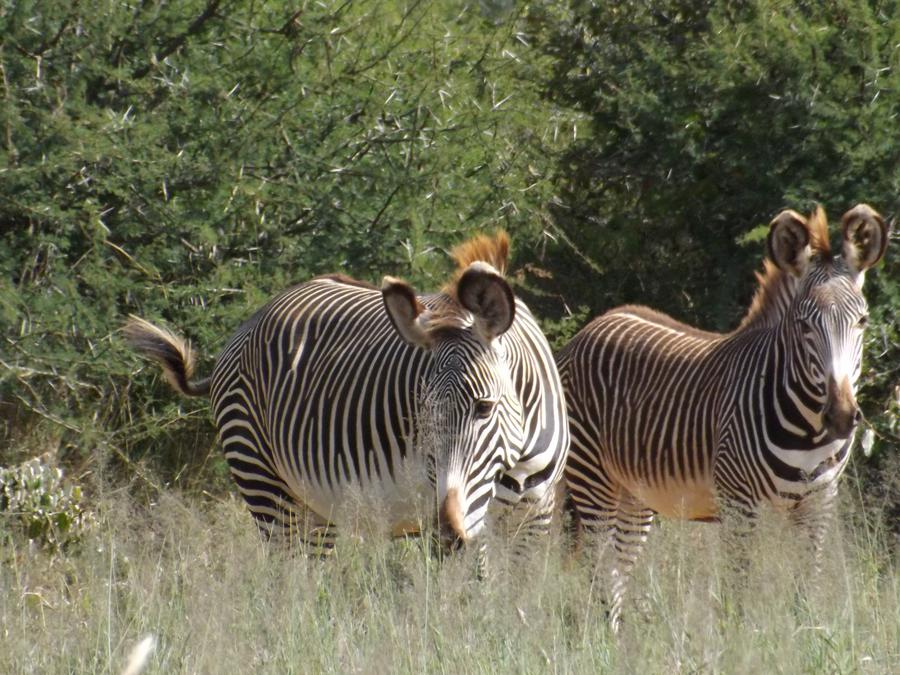zebra_grevys: (562, 305, 768, 498)
